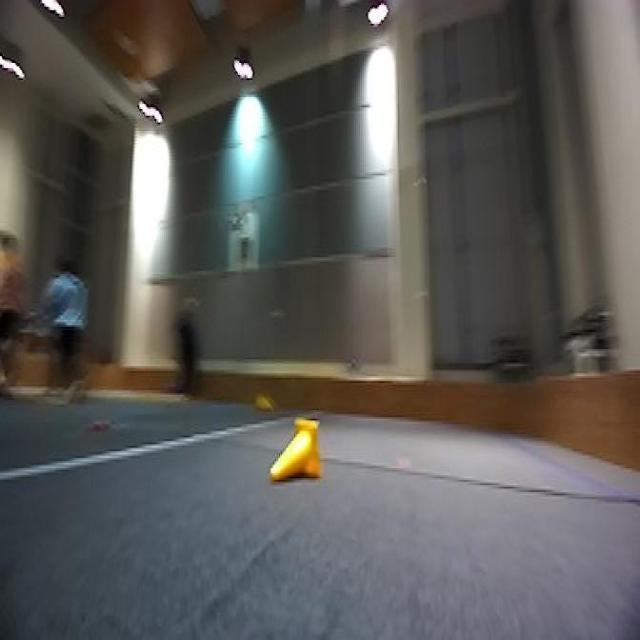frc_cone: (271, 417, 326, 489), (251, 386, 279, 416)
